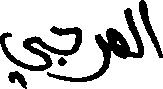X: (0, 24, 50, 88), (52, 21, 81, 86), (83, 29, 105, 86), (107, 5, 125, 73), (143, 0, 162, 62), (127, 0, 141, 62)
